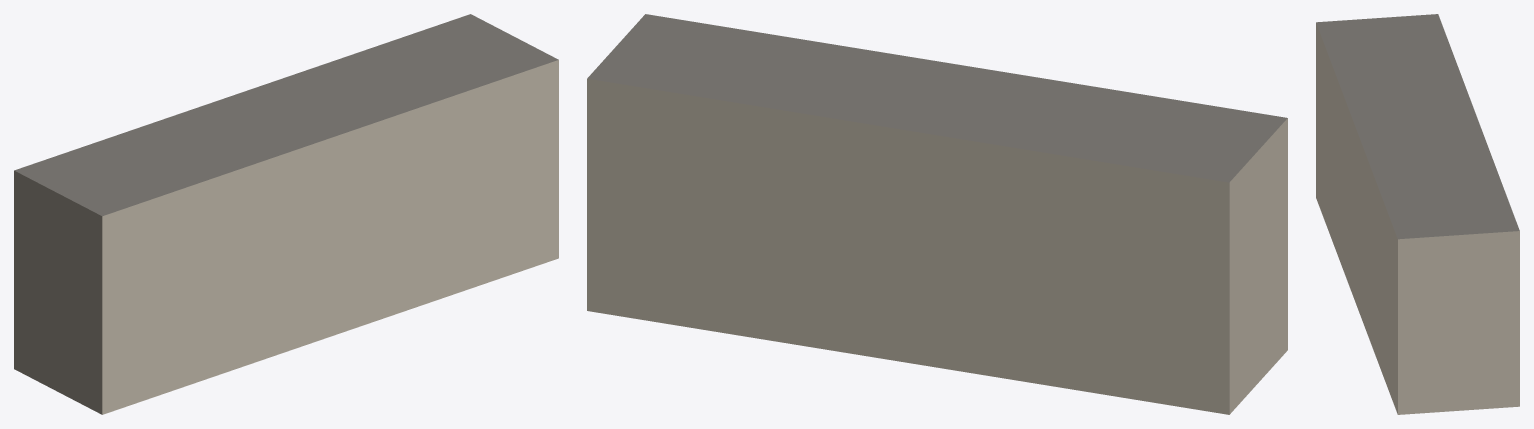
3 views of the same model, side by side, from view 1: azimuth 30°, elevation 25°; view 2: azimuth 150°, elevation 25°; view 3: azimuth 270°, elevation 25° (orthographic). The views are drawn at different scales.
Parts seen in each view (by area): view 1: HP-w442027161; view 2: HP-w442027161; view 3: HP-w442027161.
Part boxes in pixels (<box>): HP-w442027161: <box>14,14,558,414</box>; HP-w442027161: <box>587,14,1287,414</box>; HP-w442027161: <box>1316,14,1519,414</box>.
Bounding box in the file's own units: 49.5 × 18 × 18.93.
